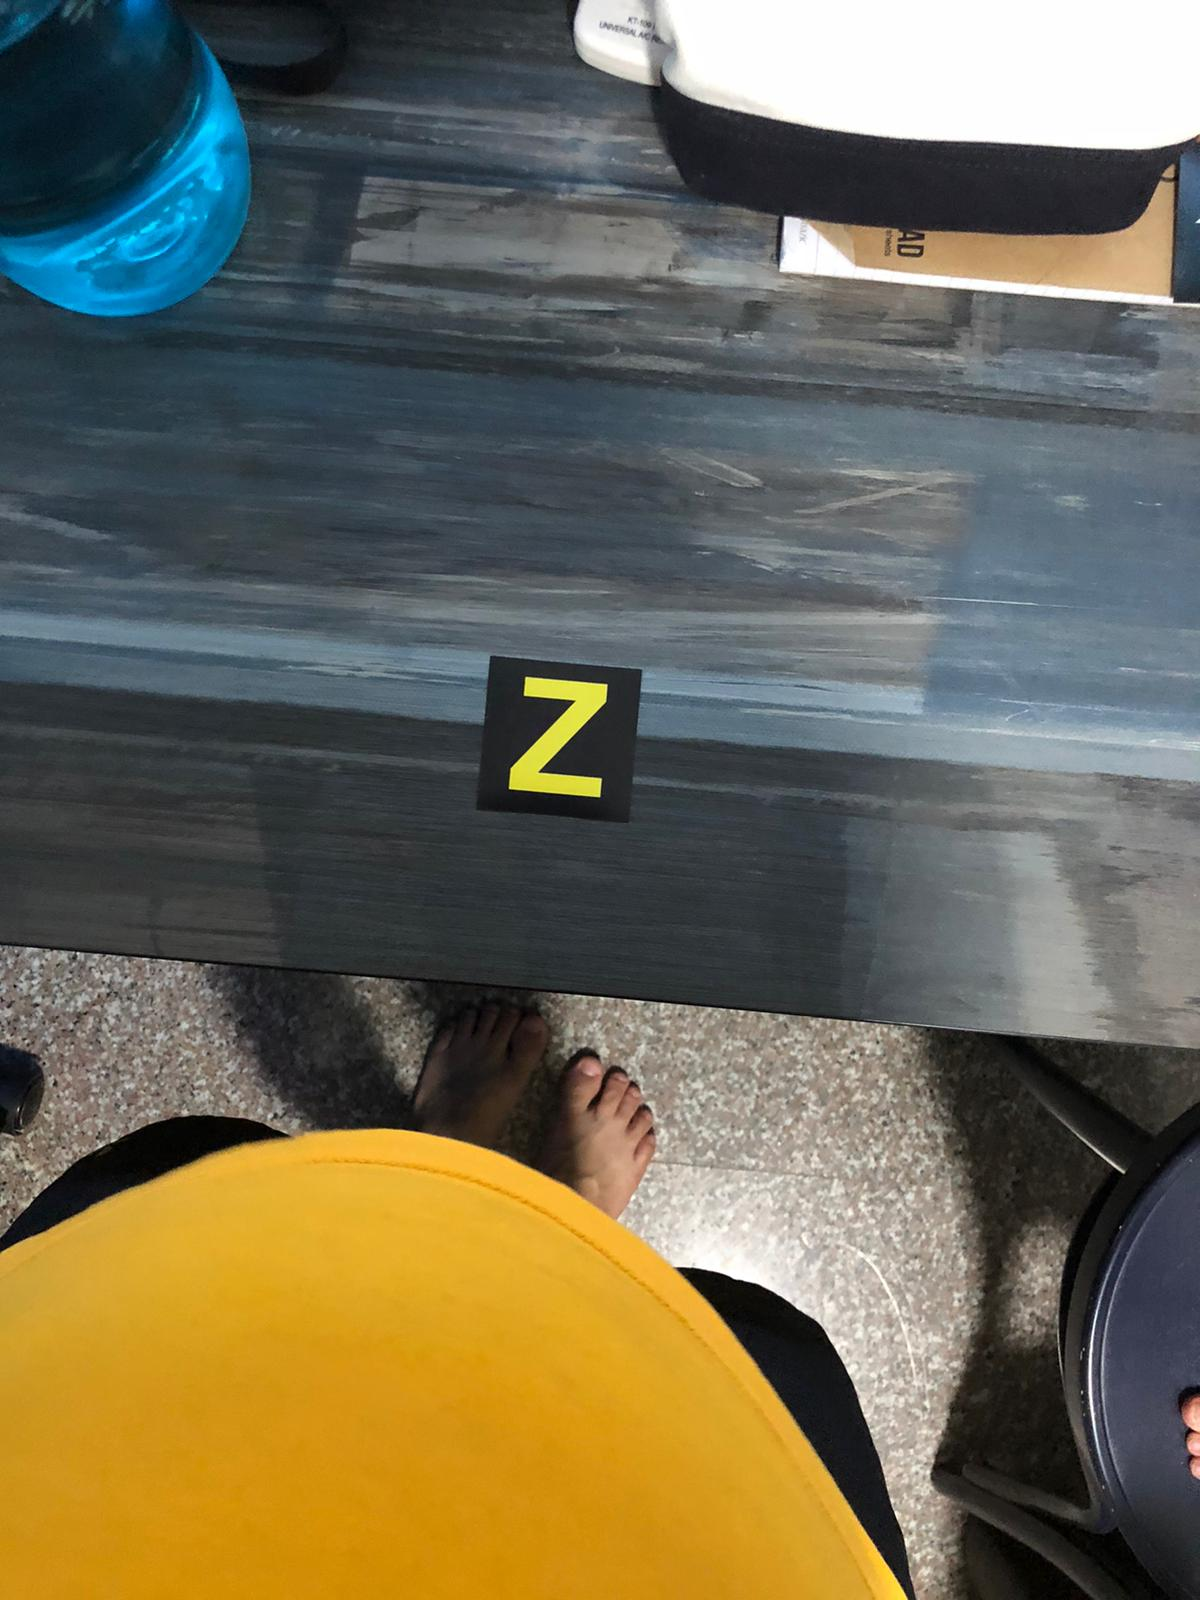Z: (484, 664, 632, 813)
